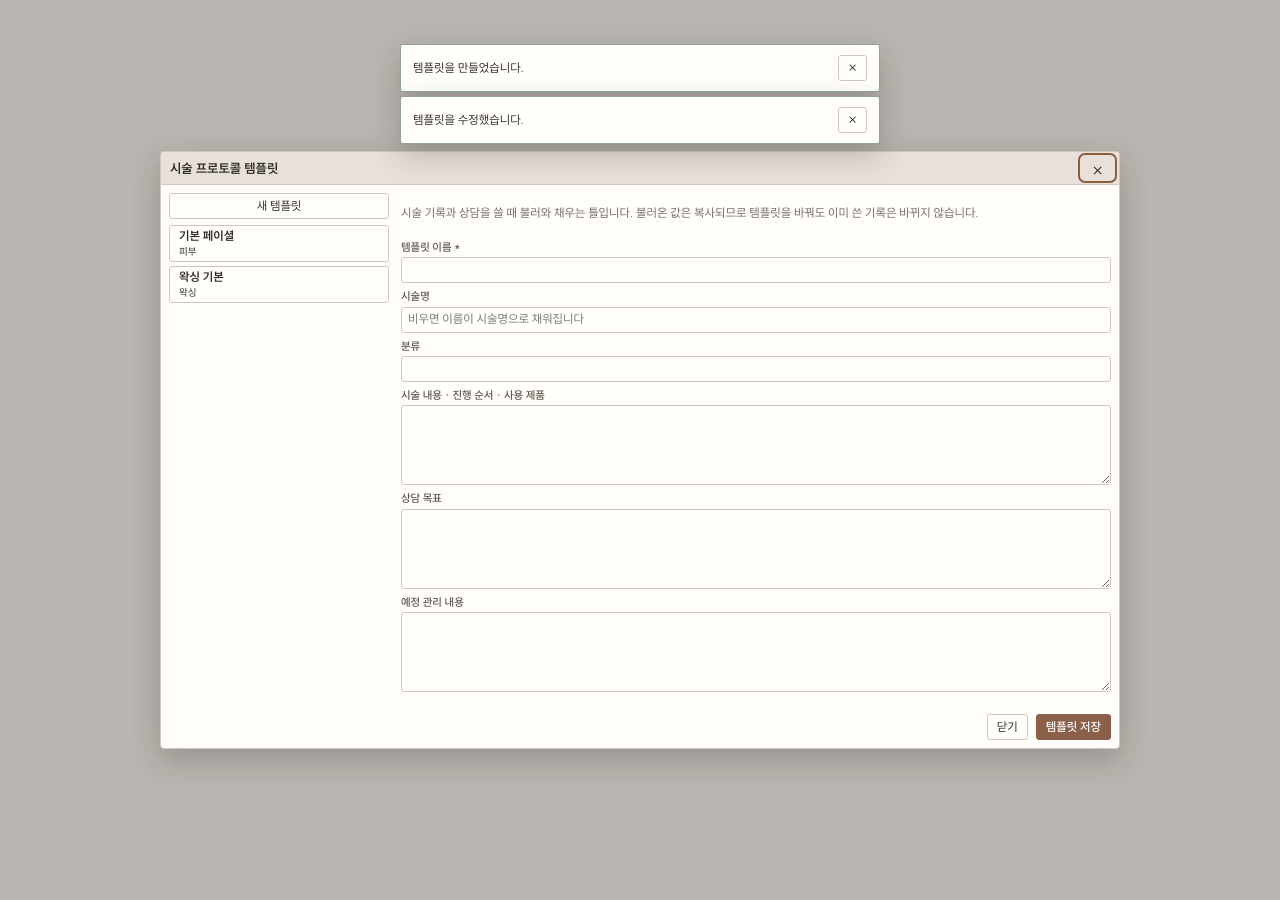
TemplateManagerDialog (TRT-12) › 같은 이름이거나 오래된 버전(409)이면 입력을 유지하고 목록을 다시 읽는다
Expected: the button "기본 페이셜 피부" is shown, [169,225,389,262]
Type "기본 페이셜" into the field labelled "템플릿 이름 *" at coordinates (756, 270), box [401,257,1111,283]
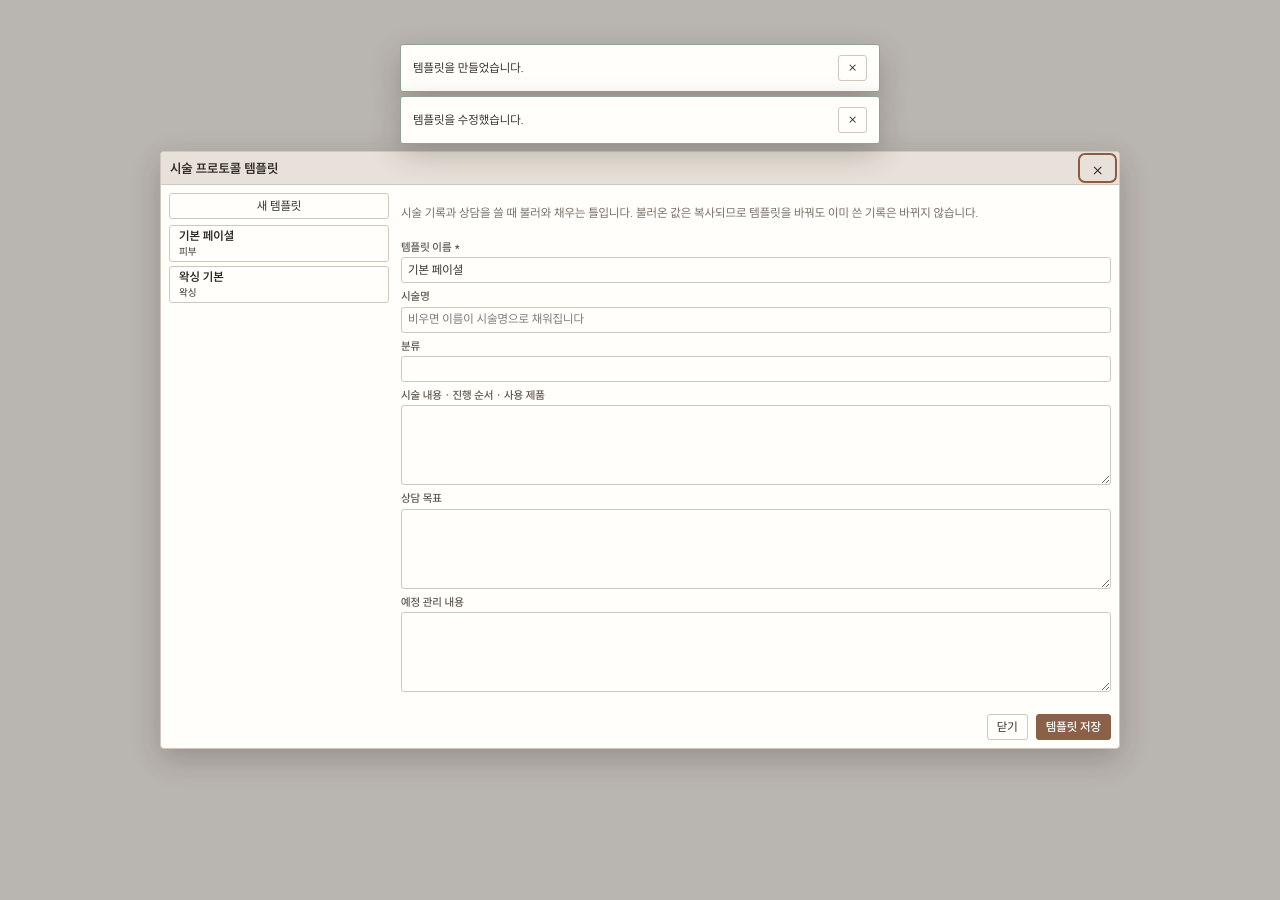
Click the button "템플릿 저장" at coordinates (1073, 727), box [1036,714,1111,740]
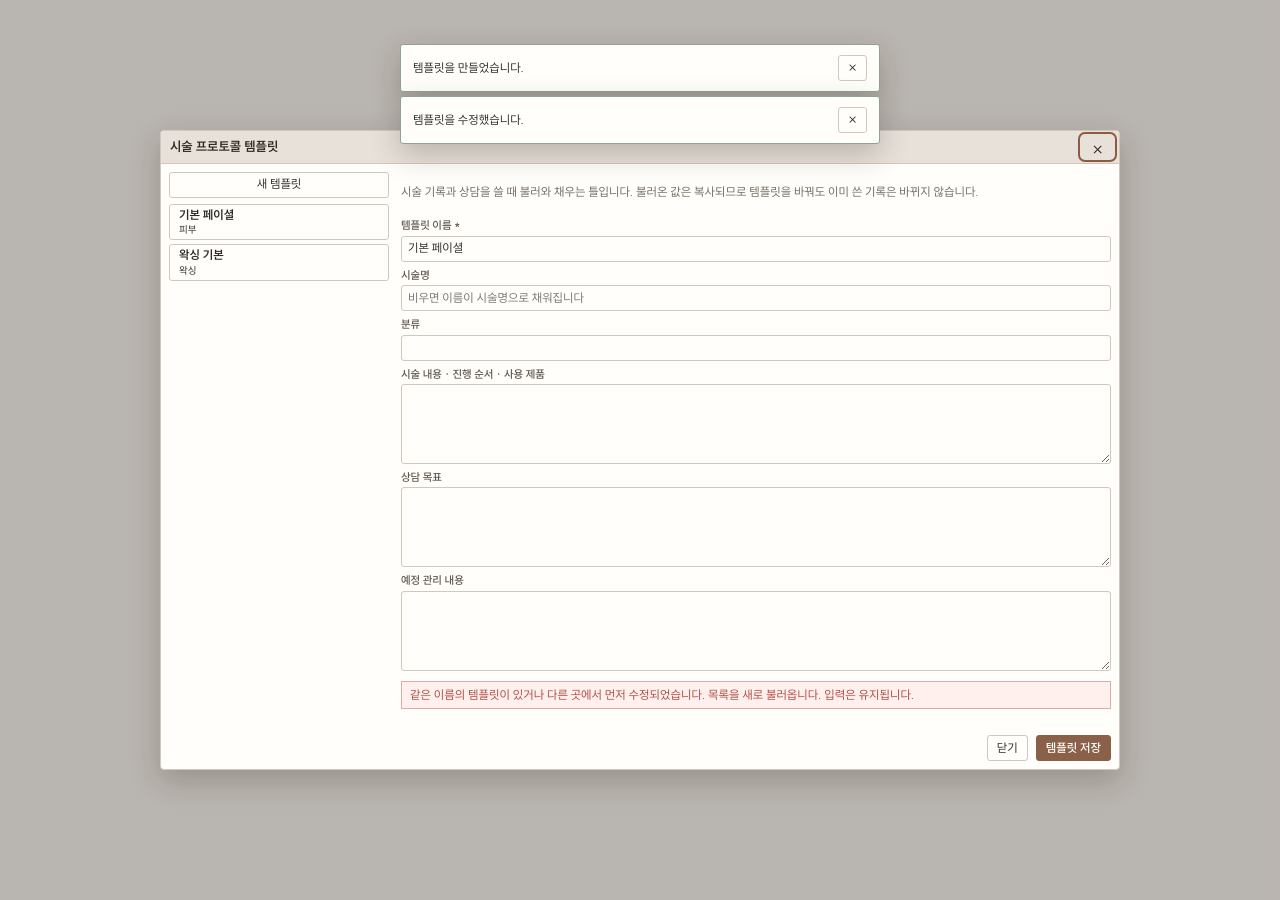
Expected: the message "같은 이름의 템플릿이 있거나 다른 곳에서 먼저 수정되었습니다. 목록을 새로 불러옵니다. 입력은 유지됩니다." is shown, [401,681,1111,710]
